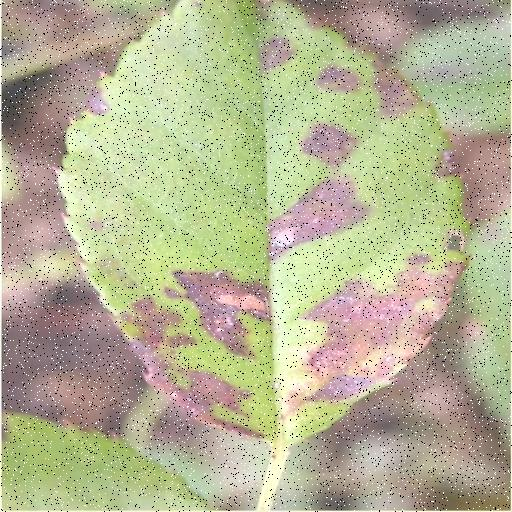downy_mildew: (58, 0, 465, 445)
healthy_leaf: (1, 415, 206, 510), (395, 14, 509, 133), (464, 211, 509, 436)
